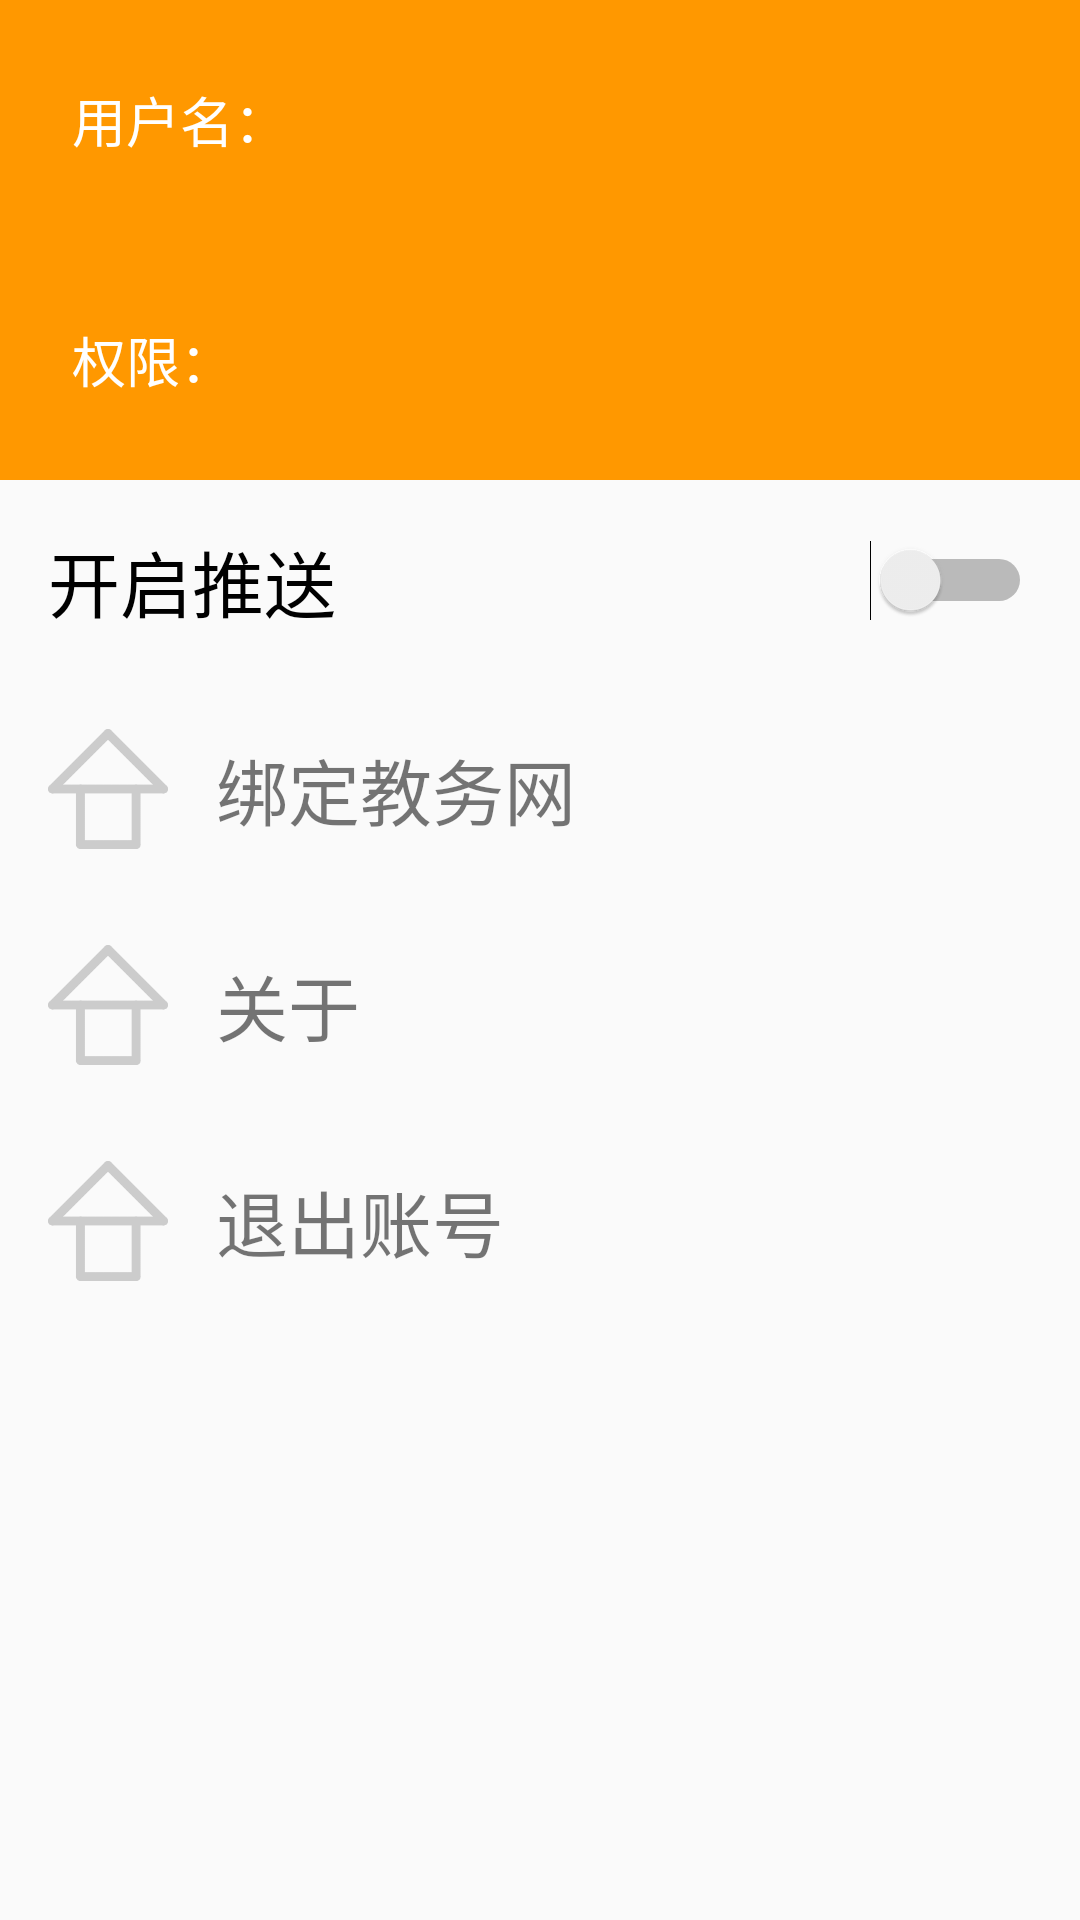

Locate icon controls on the screen. Image size 1080x1920, boxes as (x1, y1, x2, y2).
home off: (48, 729, 168, 849), (48, 945, 168, 1065), (48, 1161, 168, 1281)
